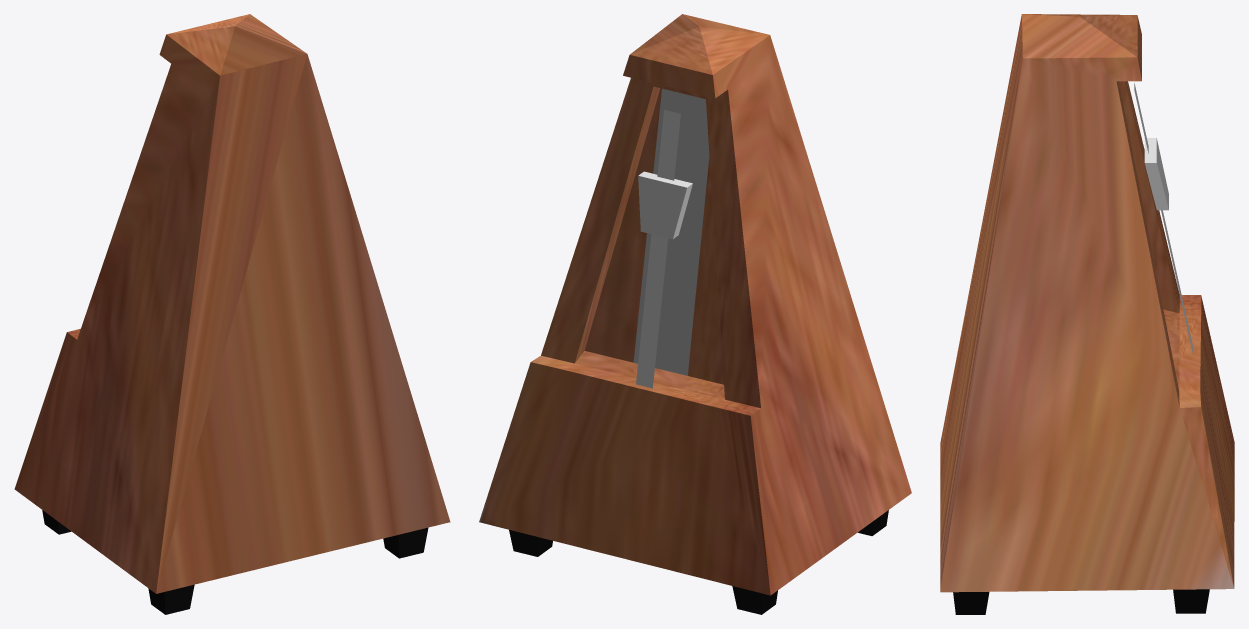
File: icondata.0.obj
The picture shows the model from 3 angles, left to right: view 1: azimuth 30°, elevation 25°; view 2: azimuth 150°, elevation 25°; view 3: azimuth 270°, elevation 25°; orthographic projection. The views are drawn at different scales.
Size of the model in its own units: 2.52 by 4.2 by 2.1.
1 material, 1 textured.
